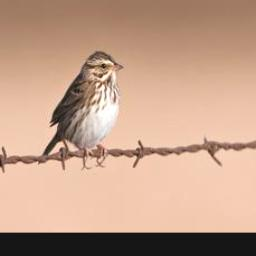Sparrow: (36, 51, 125, 169)
